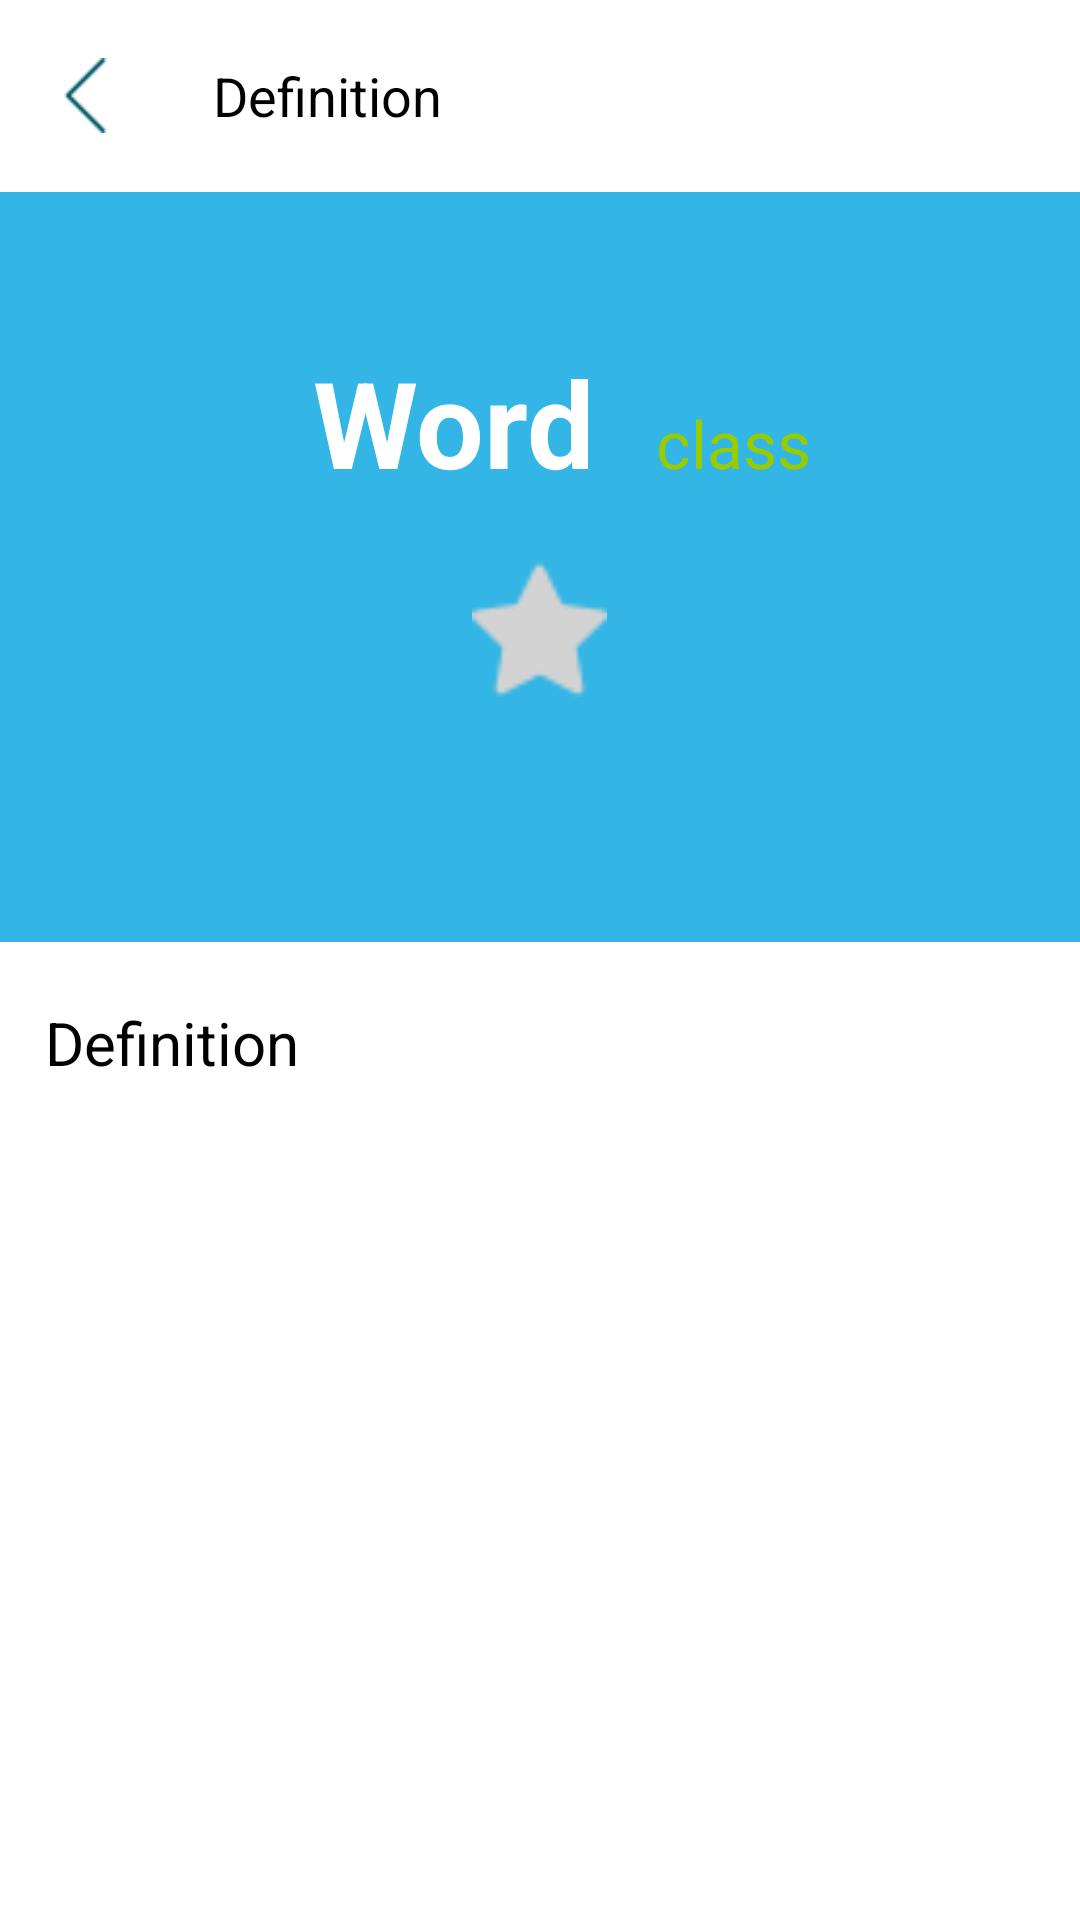

Screen size 1080px x 1920px. Icon name, then its center in pixels as (x=x, y=y):
back: (x=85, y=95)
bookmark seletor: (x=539, y=629)
